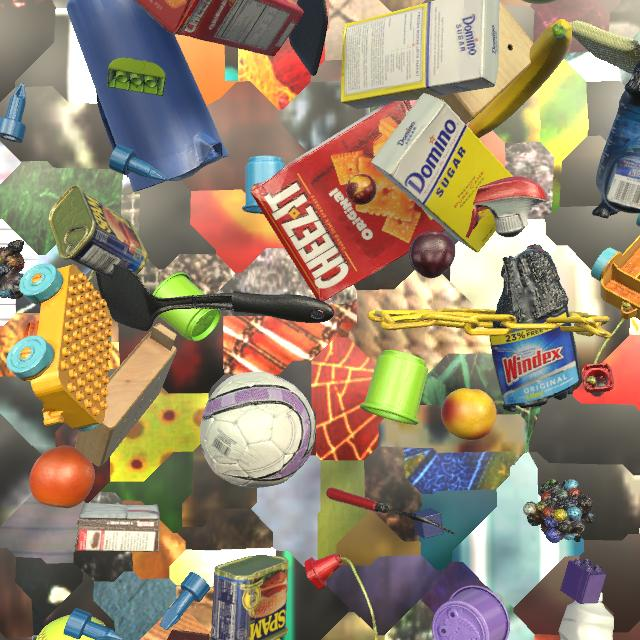ycb_003_cracker_box: (250, 101, 446, 301), (133, 0, 304, 57)
ycb_004_sugar_box: (371, 93, 513, 253), (341, 0, 500, 109)
ycb_006_mustard_bottle: (277, 638, 280, 640)
ycb_008_pudding_box: (73, 503, 160, 552)
ycb_010_potted_meat_can: (48, 185, 147, 278), (209, 555, 289, 640)
ycb_011_banana: (468, 19, 572, 138)
ycb_015_peach: (441, 388, 497, 440)
ycb_017_orange: (29, 445, 95, 508)
ycb_018_plum: (409, 231, 456, 278)
